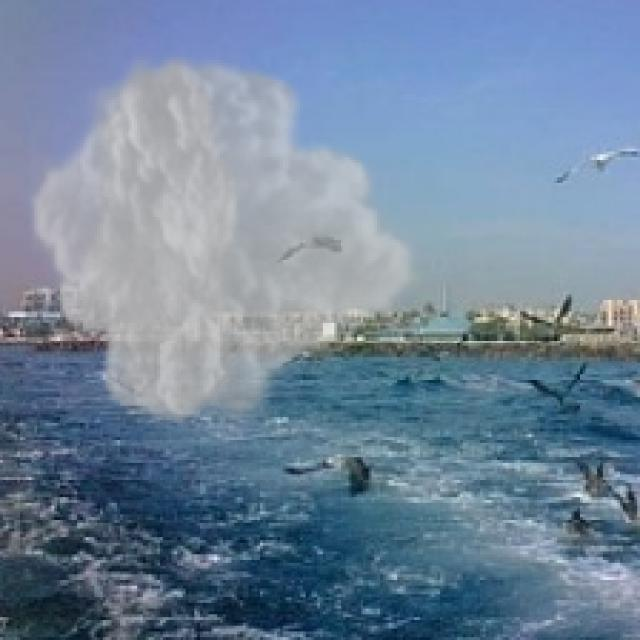Smoke: (26, 46, 423, 434)
